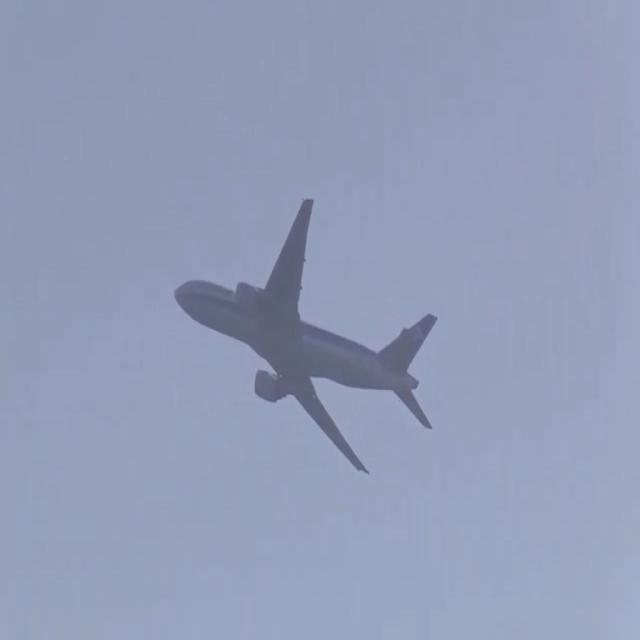AirPlane: (155, 184, 449, 491)
